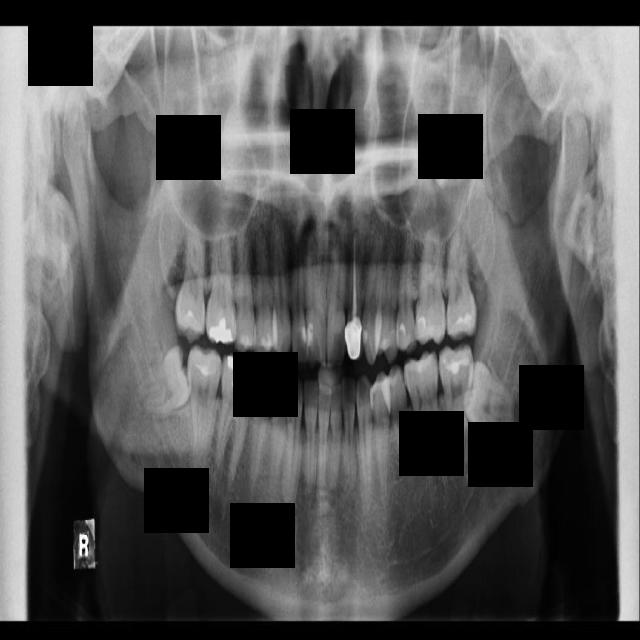52: (183, 342, 229, 385), (215, 351, 262, 393), (438, 343, 474, 385), (414, 301, 447, 346), (374, 314, 401, 367), (175, 298, 206, 343), (445, 299, 477, 342), (358, 314, 382, 368), (253, 312, 279, 361), (306, 310, 327, 369), (206, 305, 237, 344), (290, 315, 309, 365), (343, 316, 364, 360), (396, 313, 418, 355), (232, 318, 257, 354)
73: (347, 227, 366, 325), (623, 614, 631, 622)
BioHorizons Implant: (444, 216, 478, 342)
Biomet 3i Implant: (458, 360, 518, 431)
Blue Sky Bio Implant: (437, 342, 479, 477)
Caries: (175, 215, 206, 344)
Implant: (186, 342, 228, 470)
Keystone Dental Implant: (124, 343, 205, 423)
